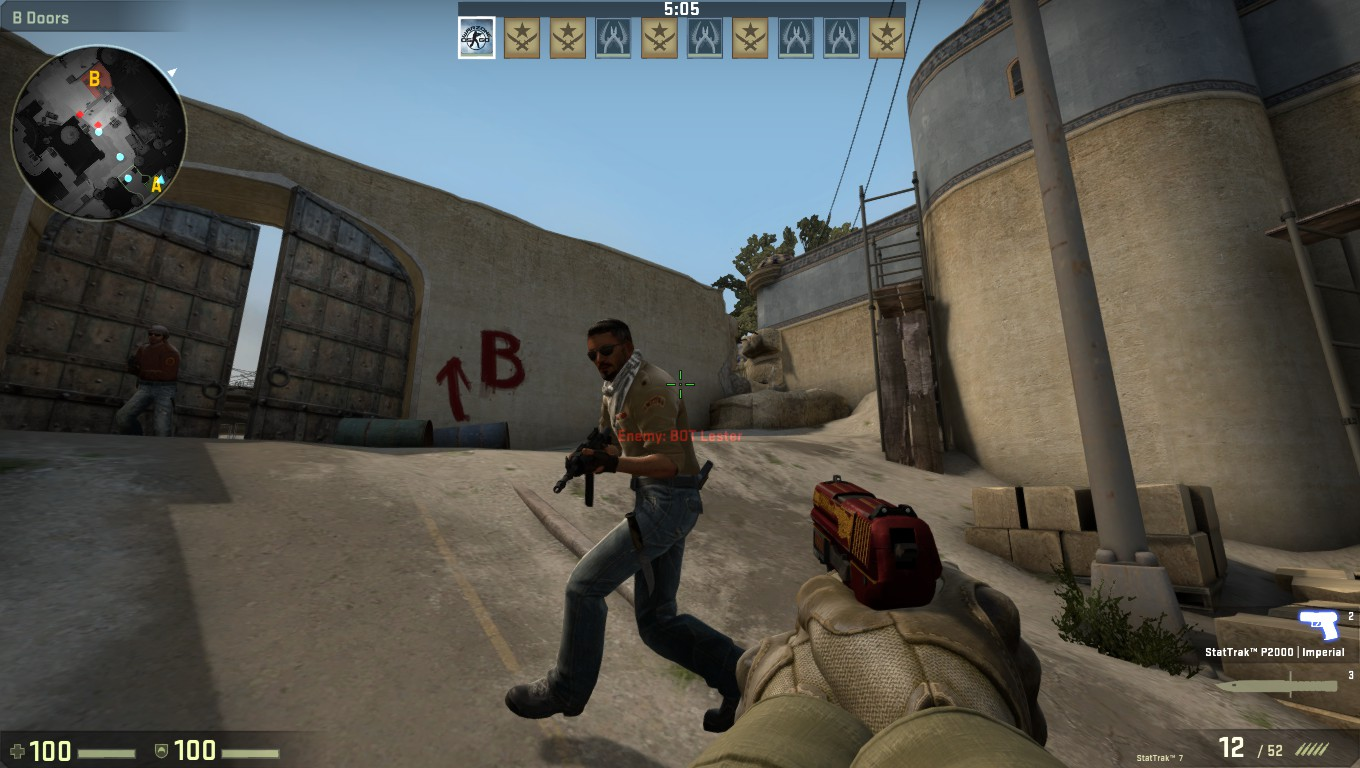t: (546, 320, 704, 723), (124, 316, 184, 440)
th: (565, 315, 647, 398), (140, 317, 175, 356)
